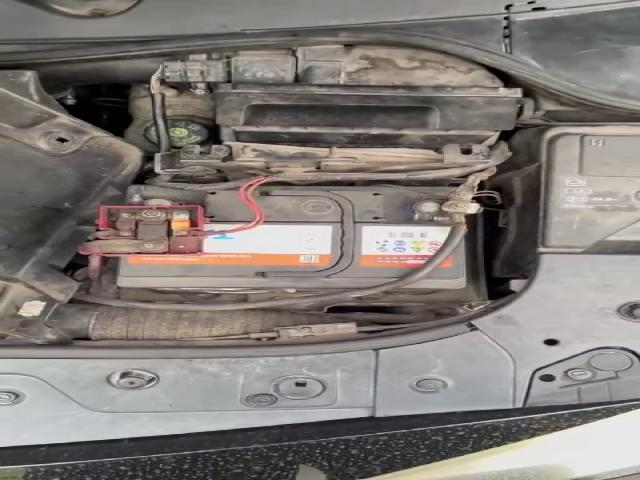accumulator: (87, 185, 466, 294)
fuse_box: (544, 132, 640, 248)
